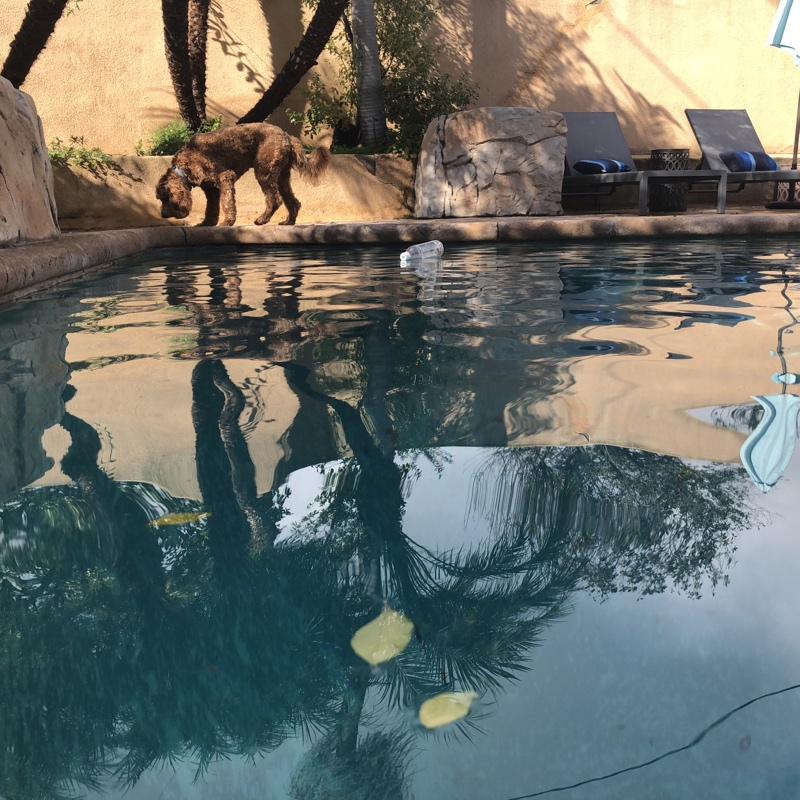Plastic Bottle: (398, 236, 445, 269)
